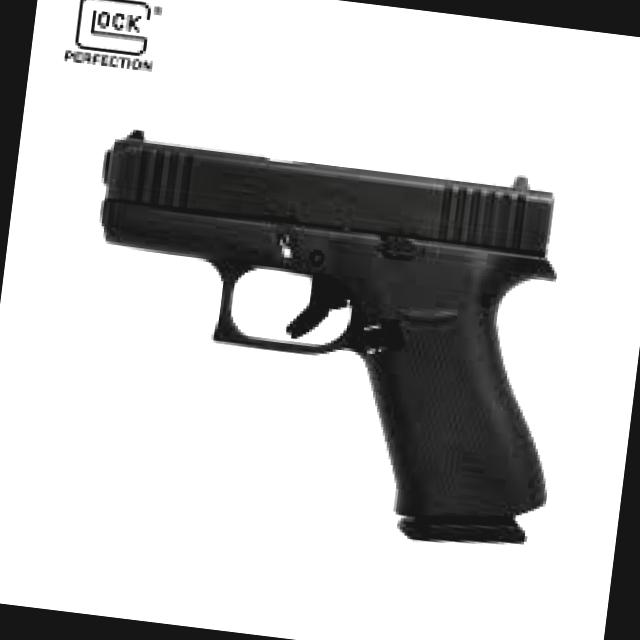semi automatic: (50, 111, 605, 570)
